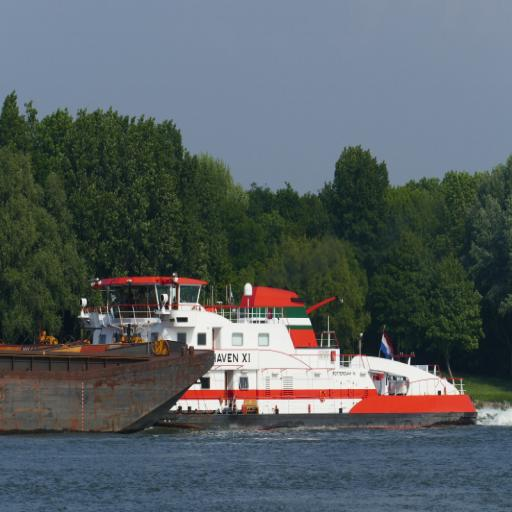tugboat: (64, 270, 483, 441)
